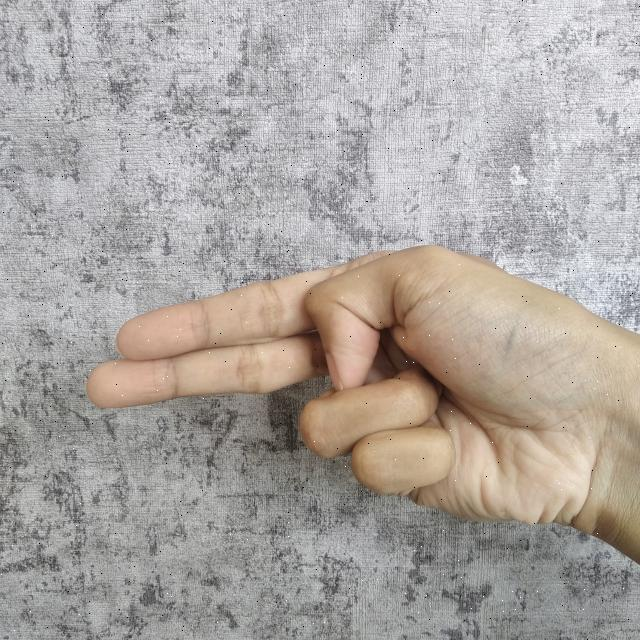H: (72, 233, 640, 571)
